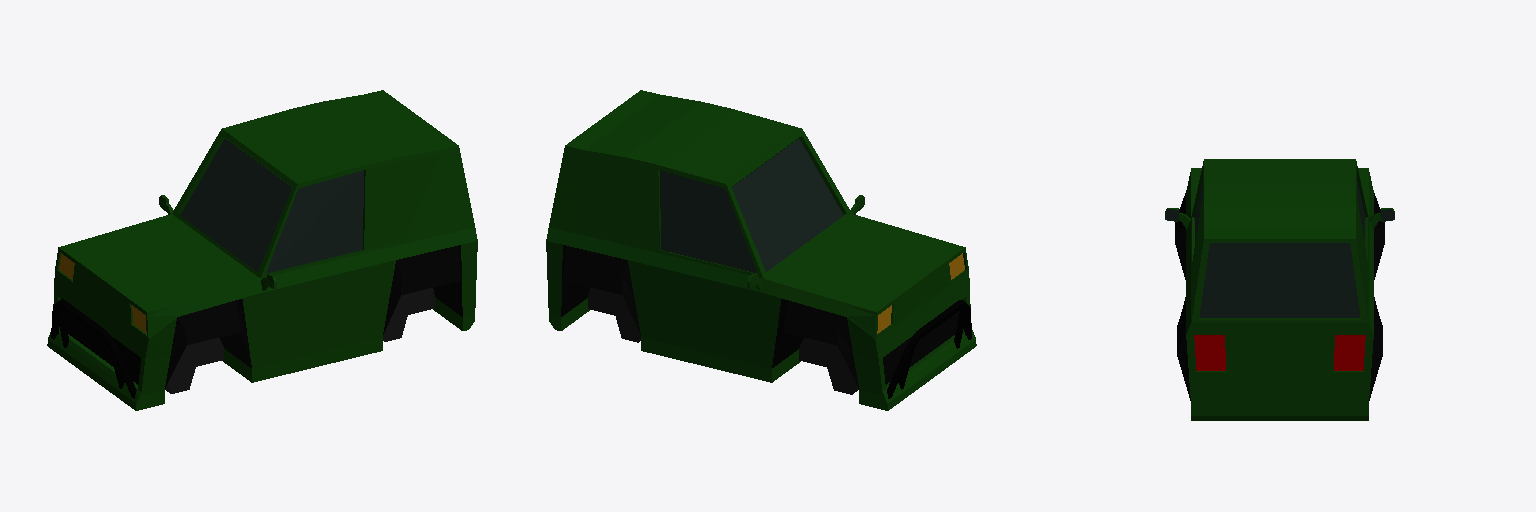
File: carro.obj
3 views of the same model, side by side, from view 1: azimuth 30°, elevation 25°; view 2: azimuth 150°, elevation 25°; view 3: azimuth 270°, elevation 25° (orthographic).
Visible parts, largest first — view 1: carro_chassis_Cube.001; view 2: carro_chassis_Cube.001; view 3: carro_chassis_Cube.001.
Part boxes in pixels (left/top/right/bottom): carro_chassis_Cube.001: left=47, top=90, right=477, bottom=410; carro_chassis_Cube.001: left=546, top=90, right=976, bottom=410; carro_chassis_Cube.001: left=1165, top=159, right=1394, bottom=420.
Size of the model in its own units: 5.12 by 2.83 by 2.92.